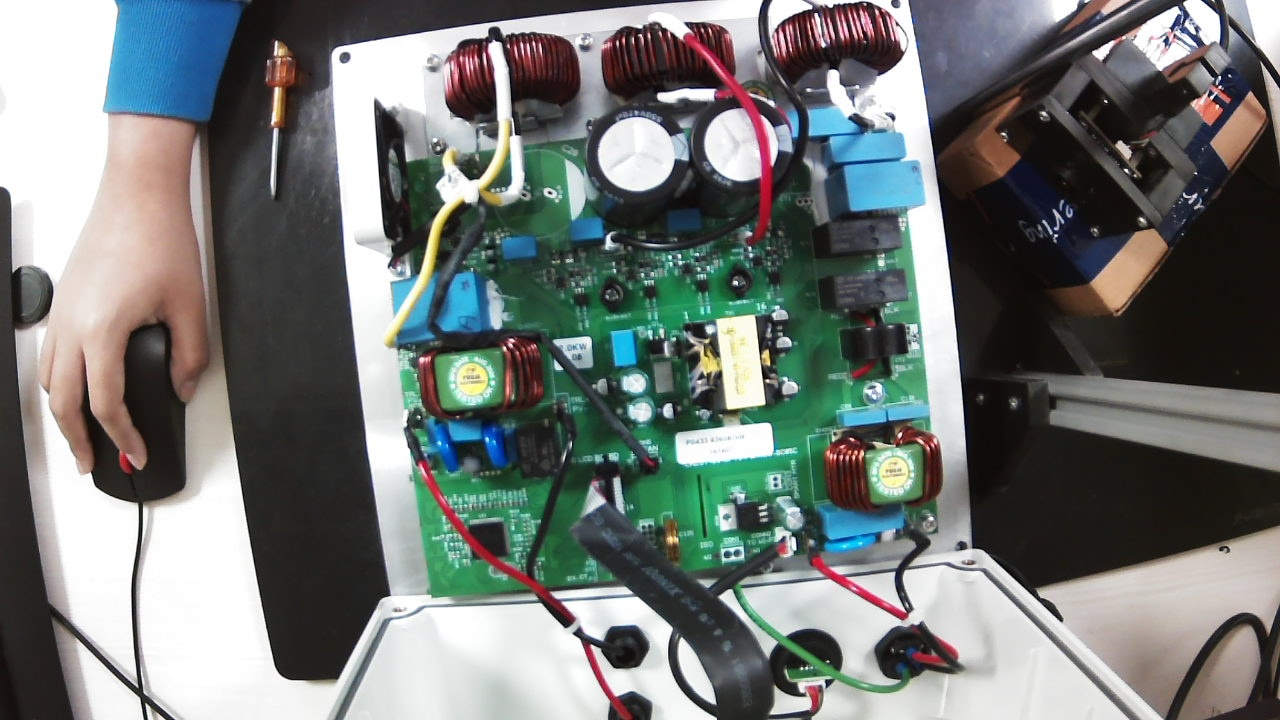solder_ball: (563, 251, 573, 262), (551, 252, 561, 263), (576, 250, 585, 262), (775, 226, 784, 237), (764, 230, 772, 239)
